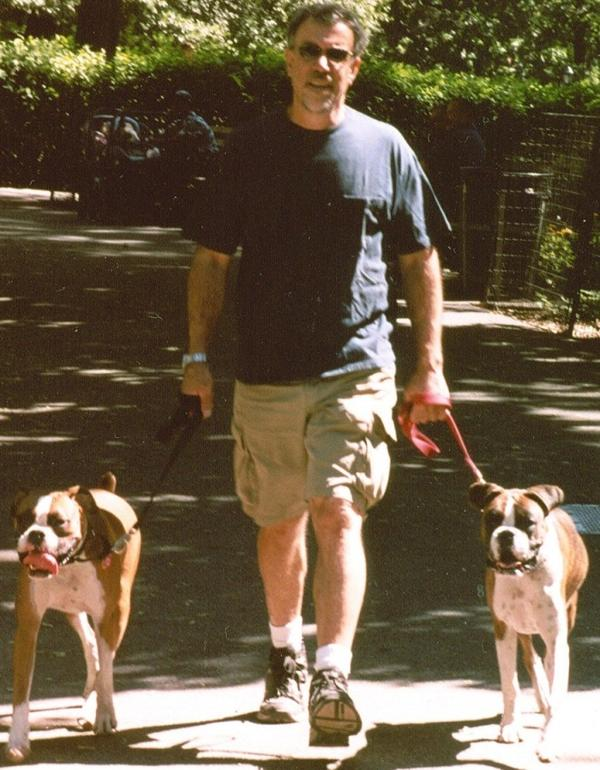person: (185, 6, 452, 744)
